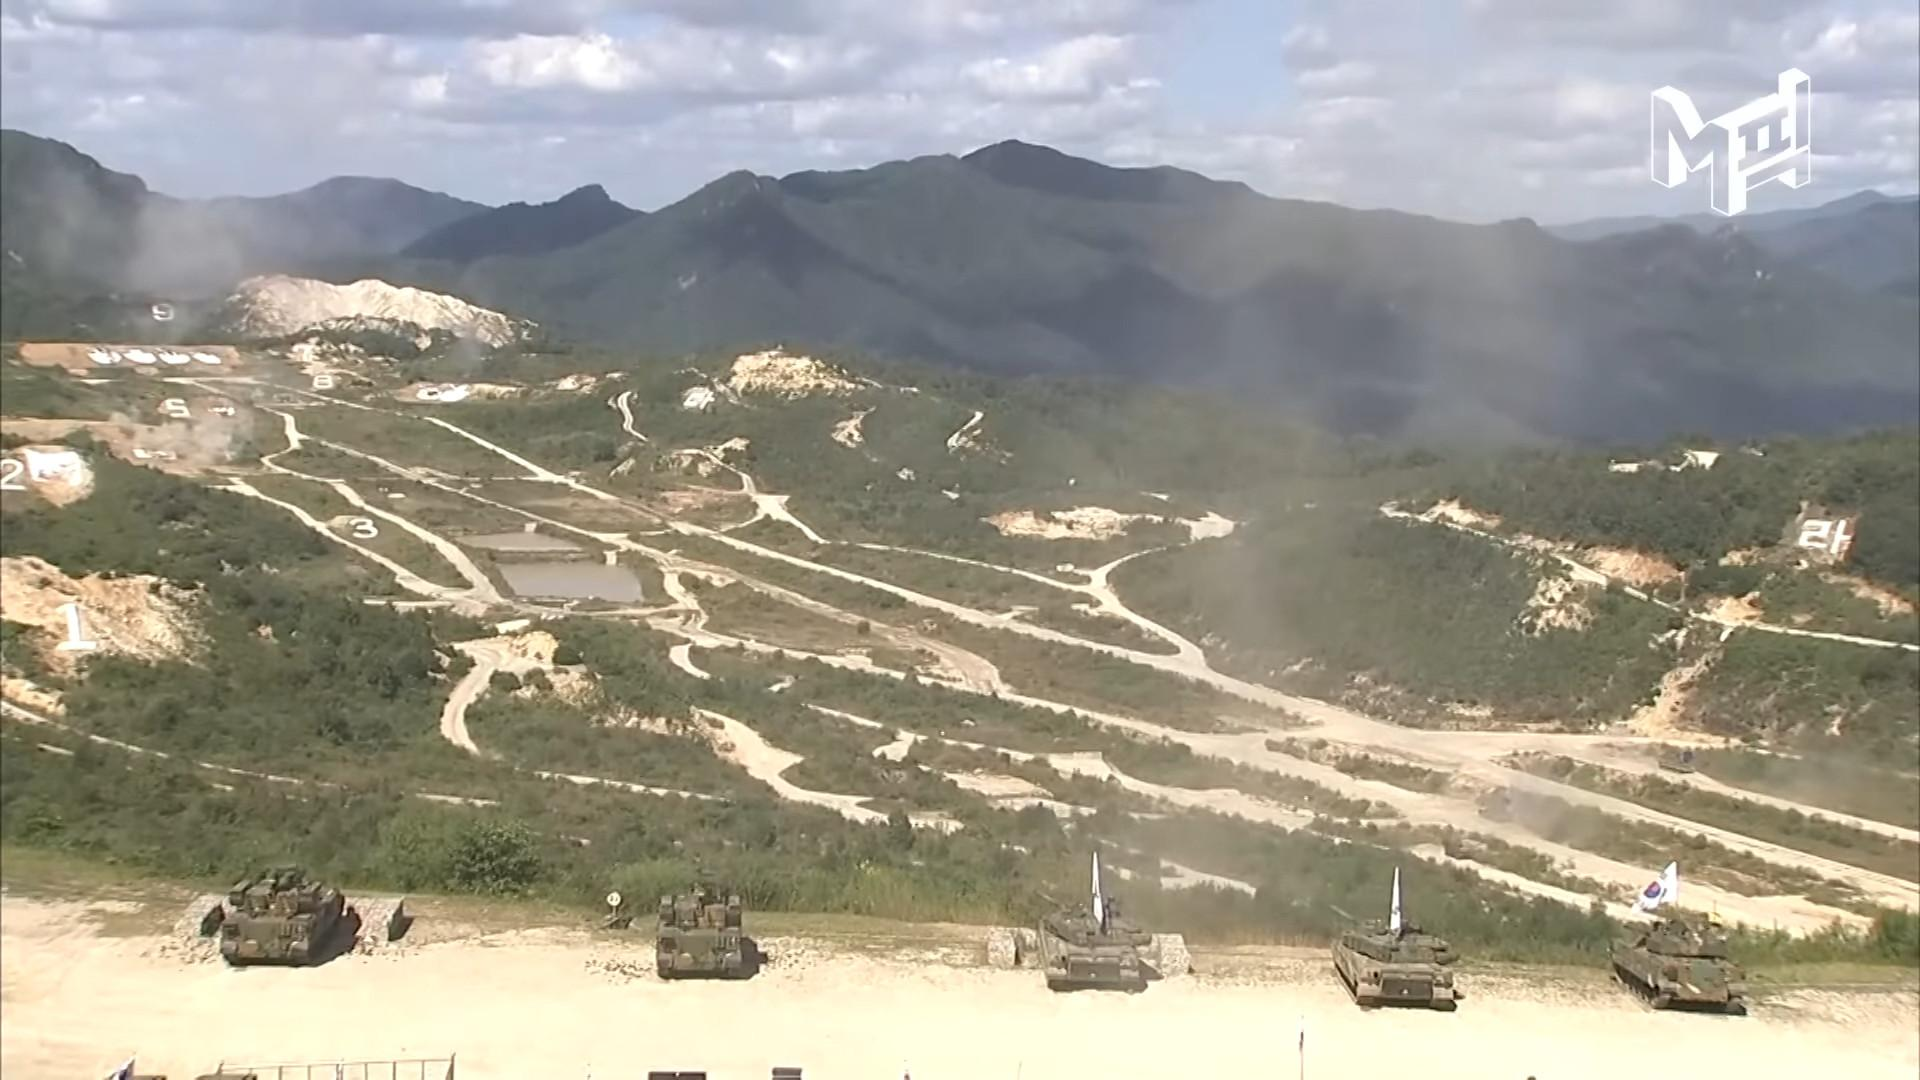tank: (1609, 902, 1749, 1013), (1328, 903, 1460, 1010), (220, 864, 345, 967), (1035, 891, 1143, 990), (655, 881, 742, 981)
